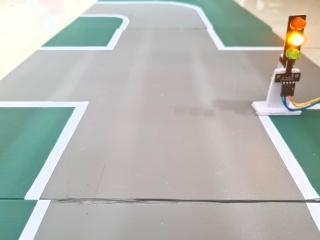yellow: (274, 5, 316, 72)
